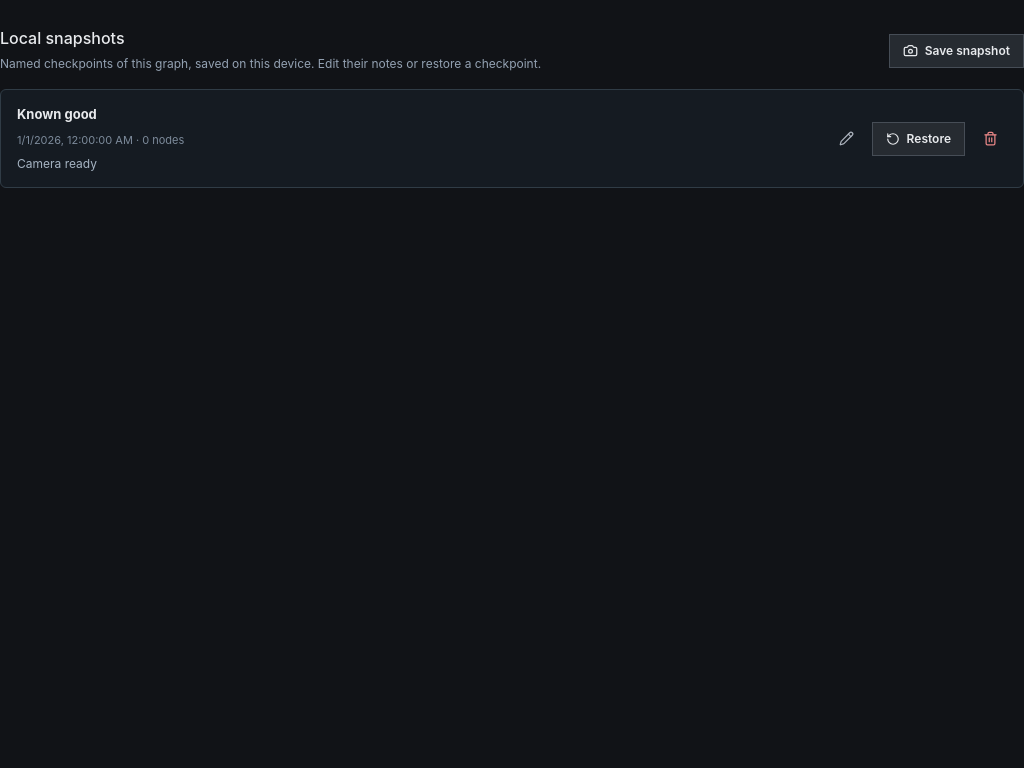
Scenario: snapshot deletion requires confirmation and leaves the current graph alone
Click the button named "Delete Known good": x=990, y=139 [973,122,1007,156]
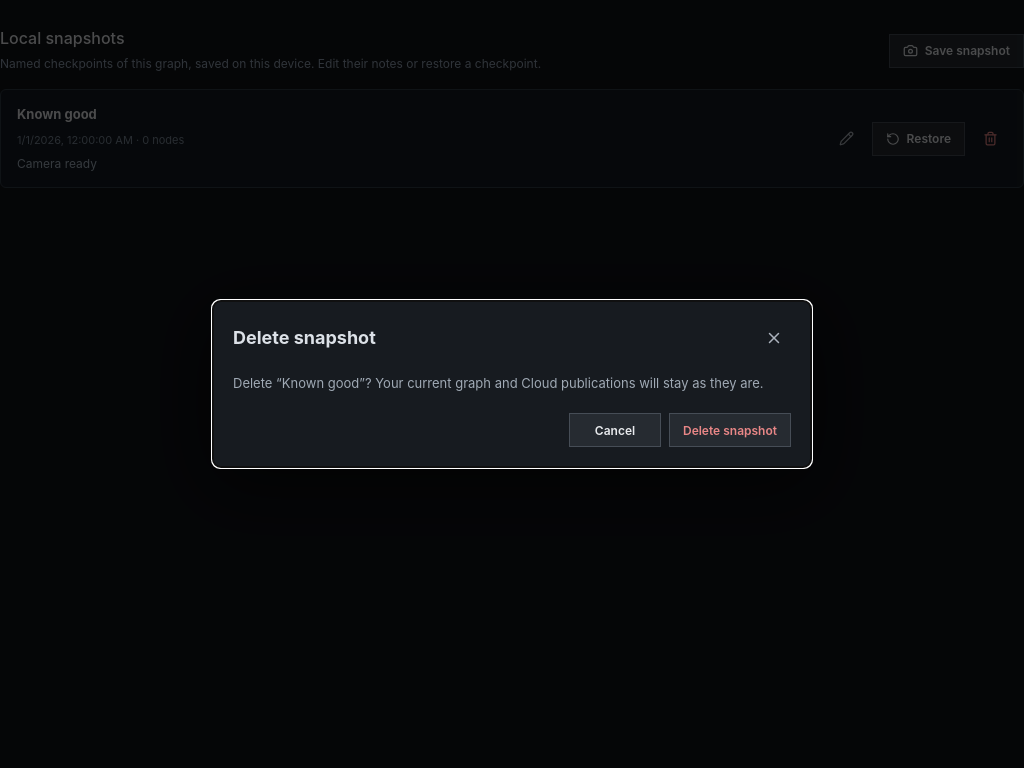
Click the button "Cancel": x=615, y=430 [569,413,661,447]
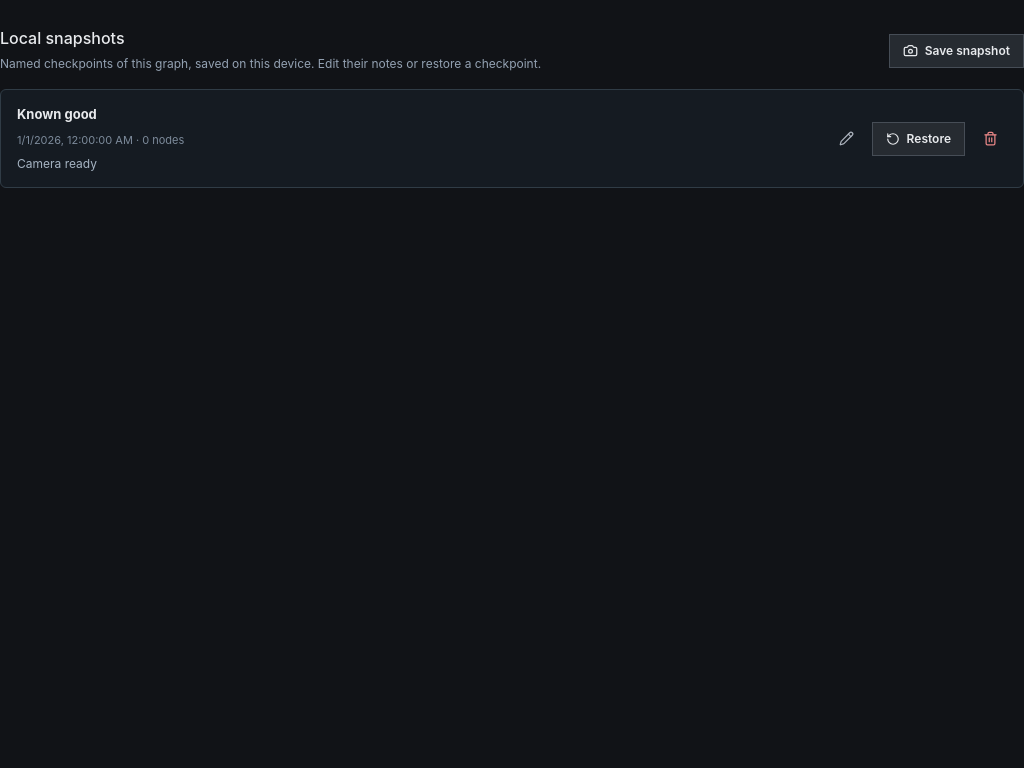
Expected: the heading "Known good" is shown, [17,106,97,122]
Click the button named "Delete Known good": x=990, y=139 [973,122,1007,156]
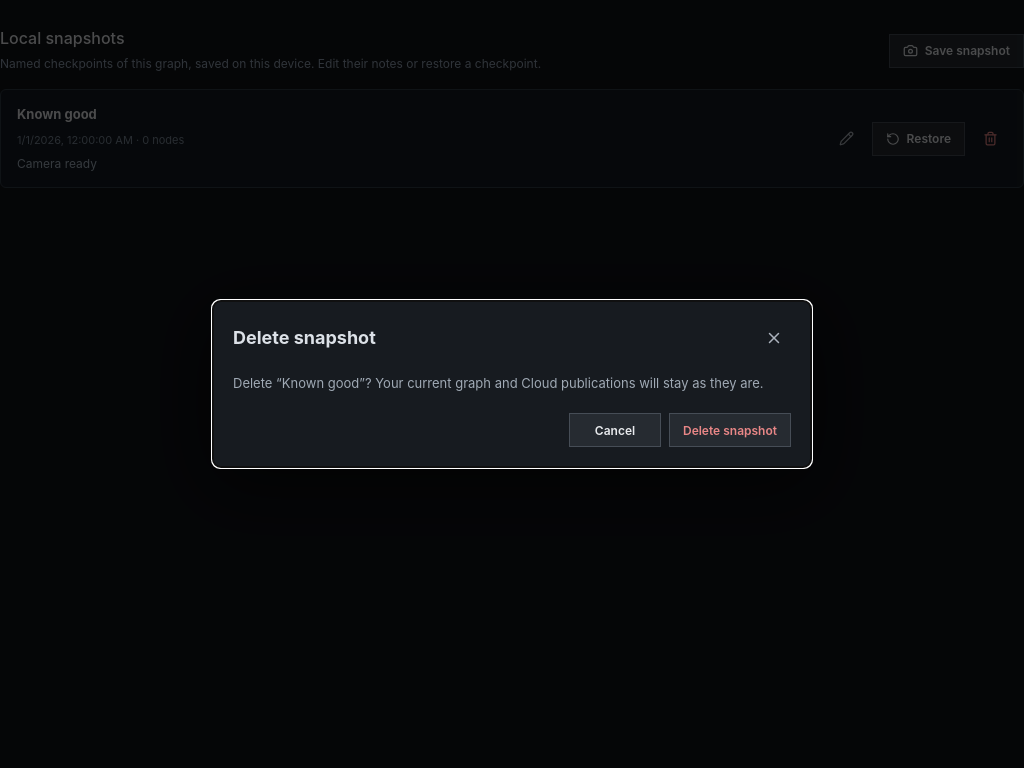
Click the button "Delete snapshot": x=730, y=430 [669,413,791,447]
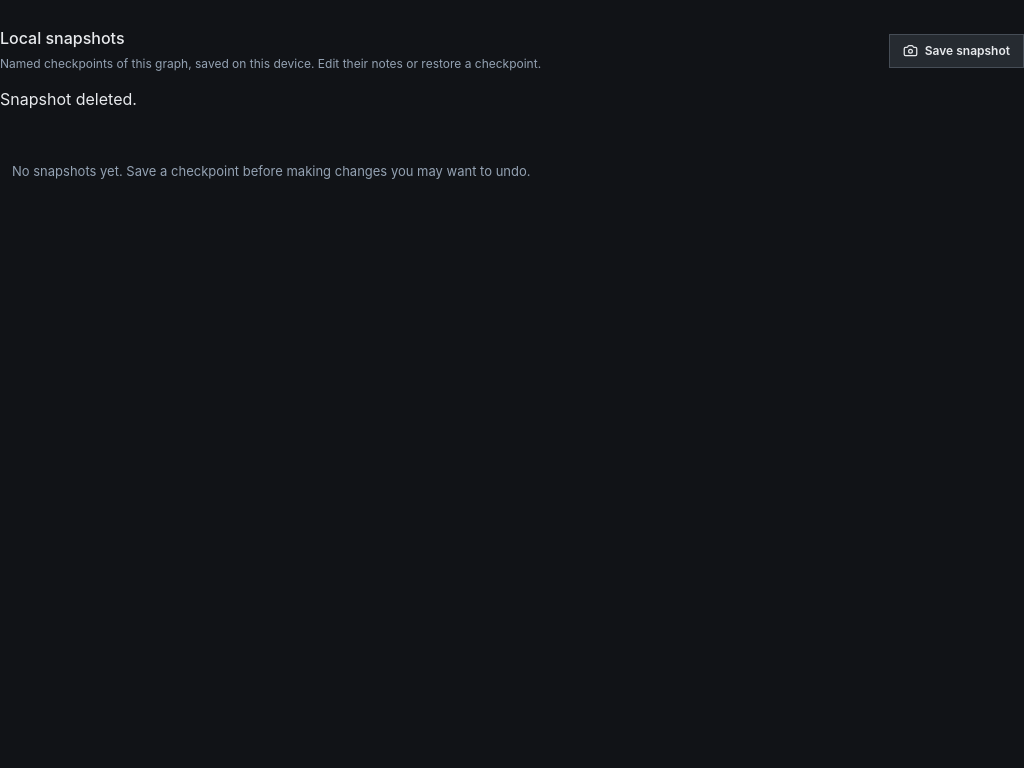
Expected: the heading "Known good" is gone
